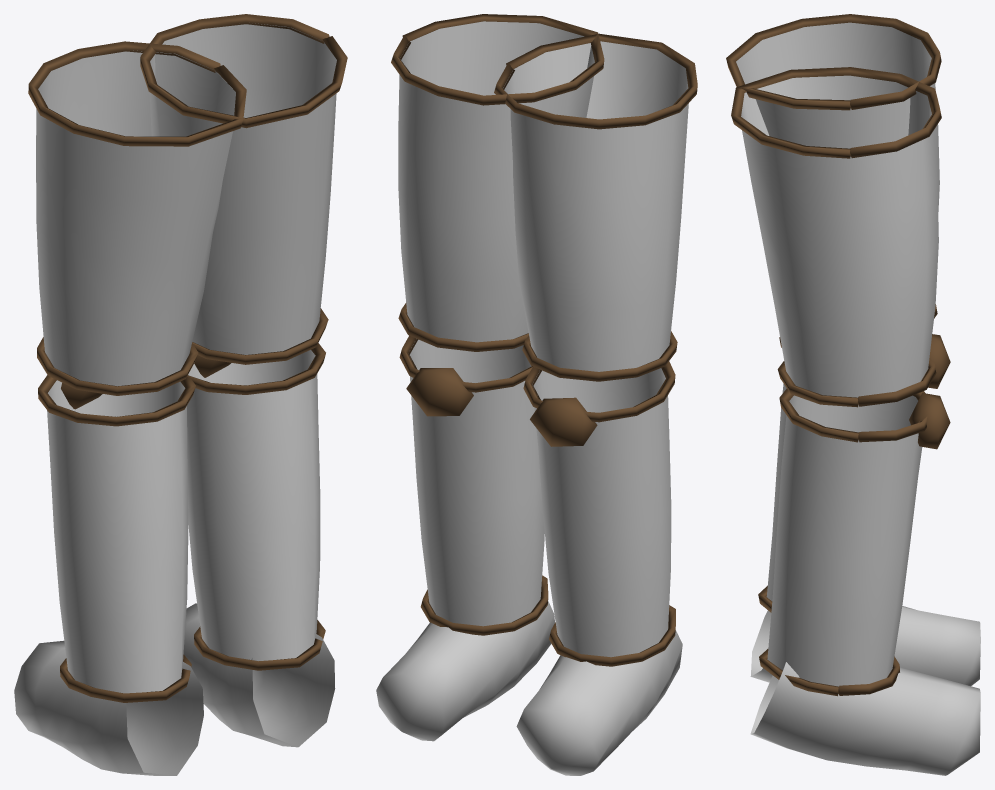
The model's file is wood_greaves.glb.
3 renders of one model, left to right at view 1: azimuth 30°, elevation 25°; view 2: azimuth 150°, elevation 25°; view 3: azimuth 270°, elevation 25°, orthographic. The views are drawn at different scales.
Visible parts, largest first — view 1: wood_greaves_cuisse.L; view 2: wood_greaves_cuisse.L; view 3: wood_greaves_cuisse.L.
Boxes of the visible parts, box(x1,y1,x2,y2) form: wood_greaves_cuisse.L: box(14, 14, 347, 775); wood_greaves_cuisse.L: box(376, 14, 697, 775); wood_greaves_cuisse.L: box(726, 14, 980, 775).
Size of the model in its own units: 0.4249 by 0.9563 by 0.3366.
